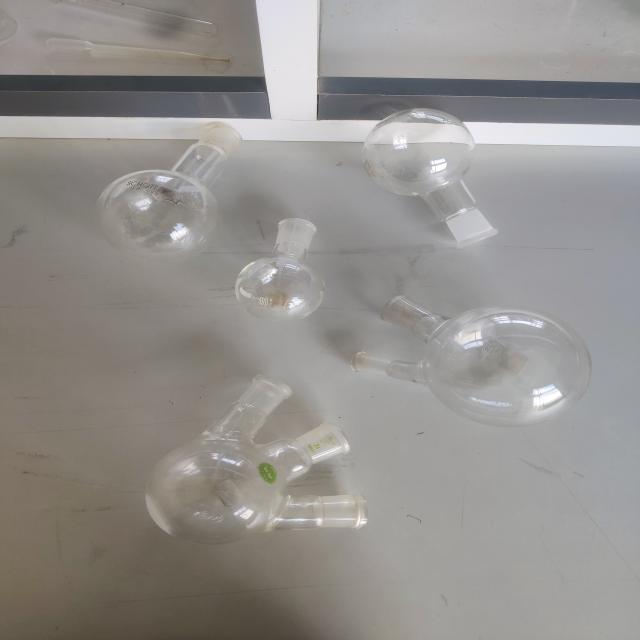Round_Bottom_Flask_Borosilicate_Glass_1_Neck: (342, 90, 562, 265), (79, 101, 263, 283), (224, 191, 335, 340)
Round_Bottom_Flask_Borosilicate_Glass_2_Neck: (333, 277, 627, 453)
Round_Bottom_Flask_Borosilicate_Glass_3_Neck: (122, 352, 412, 584)
